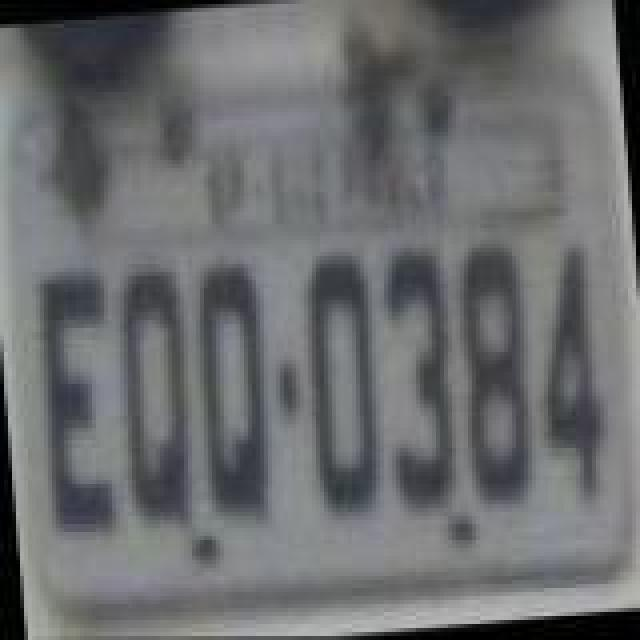3: (370, 244, 462, 520)
4: (534, 240, 618, 504)
8: (450, 238, 542, 518)
E: (32, 268, 128, 540)
O: (296, 250, 392, 522)
Q: (110, 264, 202, 536), (186, 254, 278, 526)
